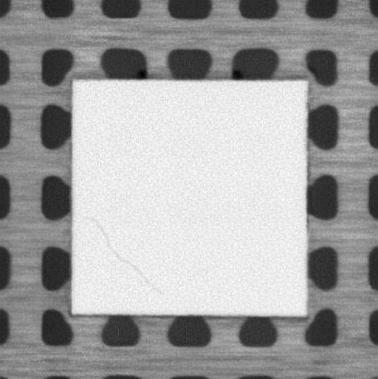DIE_CRACK: (84, 216, 163, 296)
